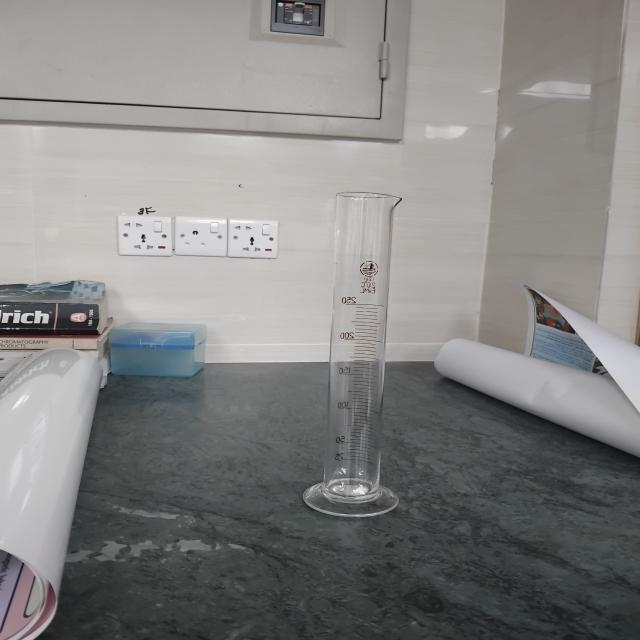Measuring_Cylinder: (294, 148, 444, 548)
